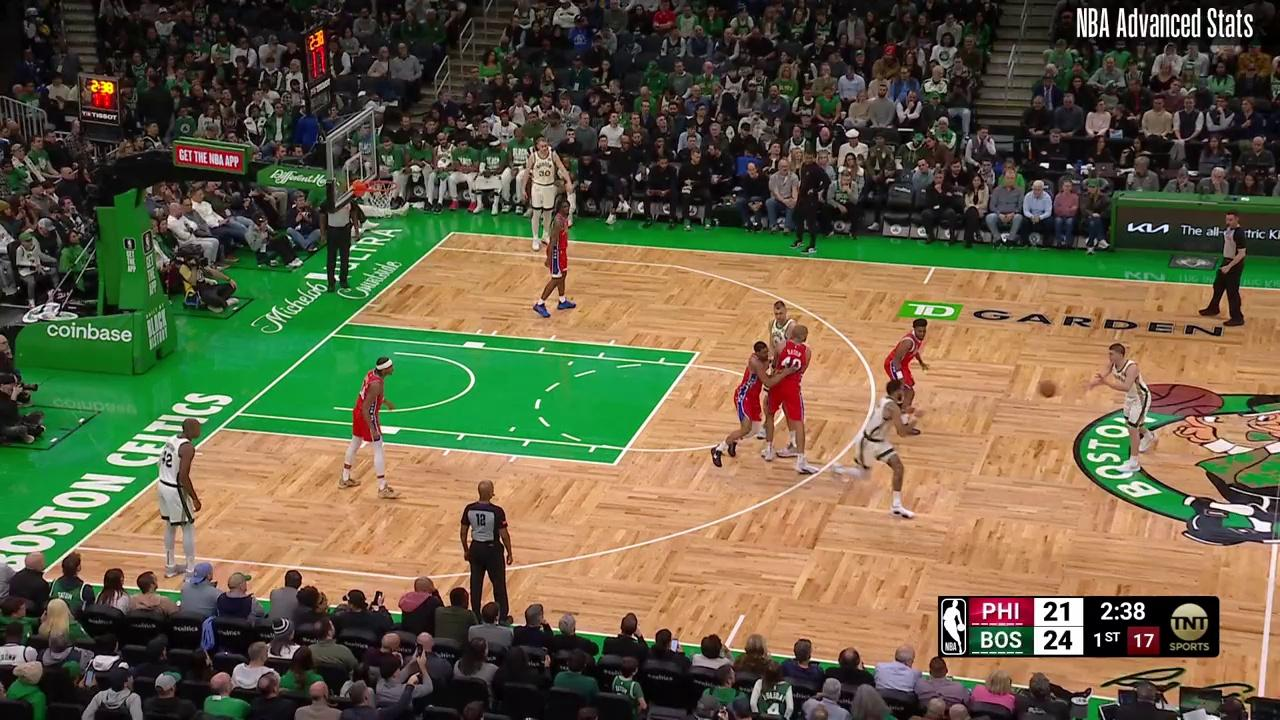3_dx: (430, 243, 439, 252)
b_dx: (447, 227, 457, 238)
free_adx: (694, 349, 702, 357)
free_asx: (608, 459, 620, 469)
free_bdx: (69, 541, 81, 553), (341, 319, 349, 327)
free_bsx: (215, 424, 225, 433)
mid_dx: (920, 278, 930, 287)
mid_sx: (738, 612, 747, 620)
referee: (458, 477, 514, 622), (1196, 206, 1247, 329), (317, 191, 366, 294)
team: (829, 381, 921, 523), (1081, 339, 1159, 474), (158, 416, 202, 581), (760, 303, 800, 444), (521, 133, 566, 247)
team1: (340, 358, 405, 502), (762, 324, 818, 473), (712, 343, 774, 464), (878, 314, 928, 426), (536, 202, 575, 318)
timer: (1095, 595, 1152, 625)
